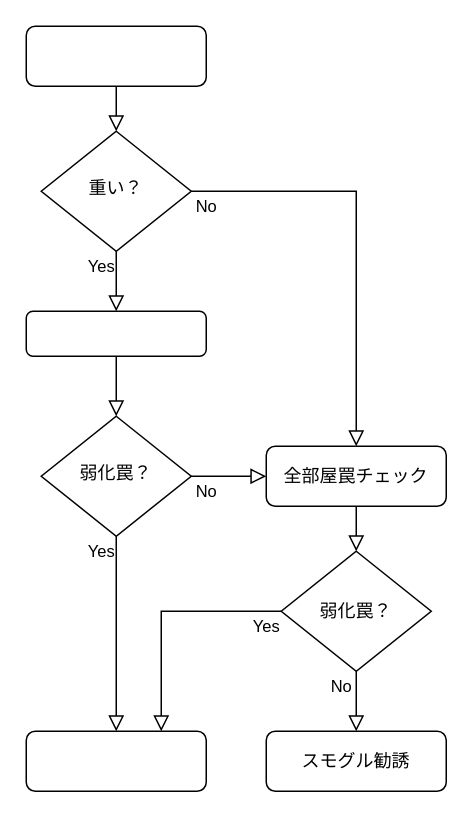
Some shapes in this 473 by 818 pixel diagram are drawn without their labels. The shapes that lost their labels are listed below. From the top down, each one's centre as x and y in pixels, then its label:
At (115,55): "開幕".
At (115,333): "MHを探す".
At (115,760): "囮弱化スモコン".
